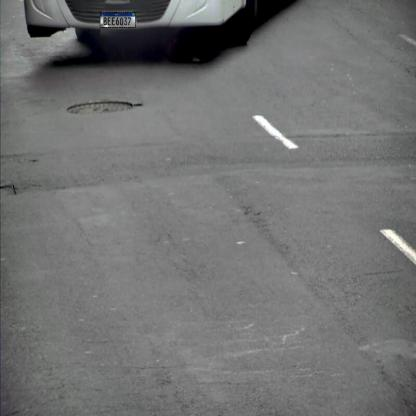PlacaM: (100, 12, 136, 28)
